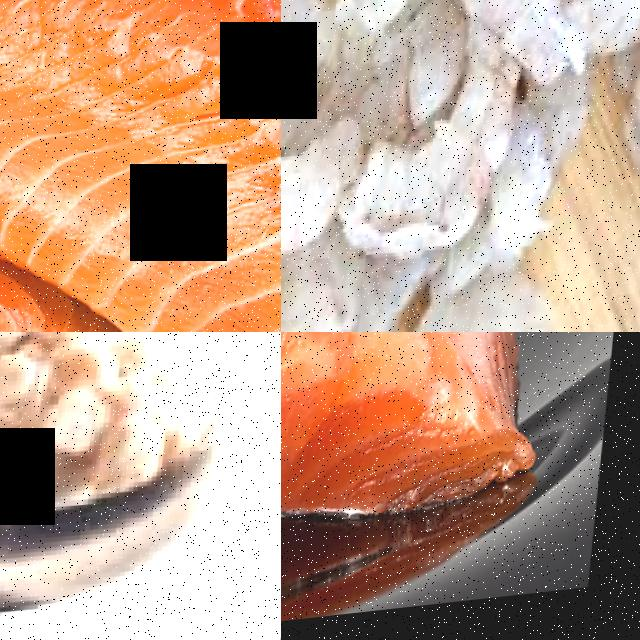salmon: (0, 0, 281, 258), (281, 332, 483, 490)
shrimp: (355, 57, 518, 284), (281, 82, 370, 282), (411, 272, 573, 332)
